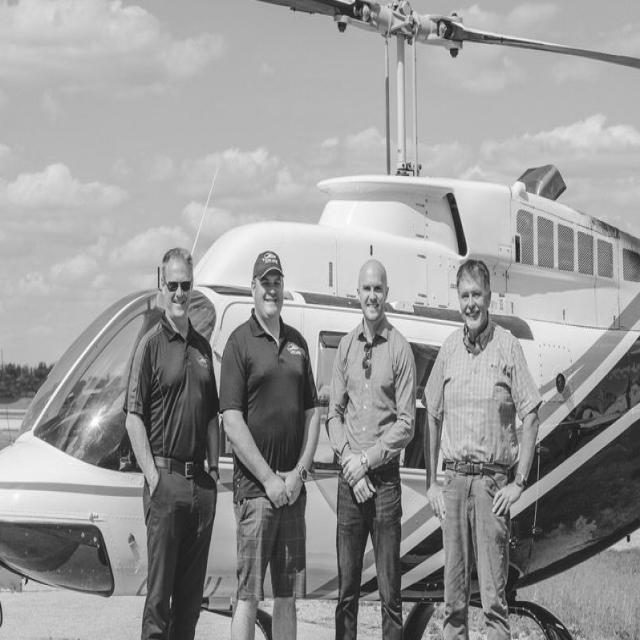helicopter: (1, 46, 640, 640)
